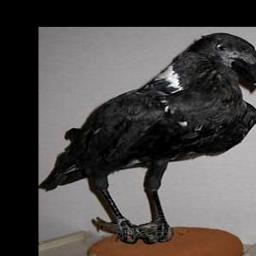Crow: (40, 31, 256, 245)
